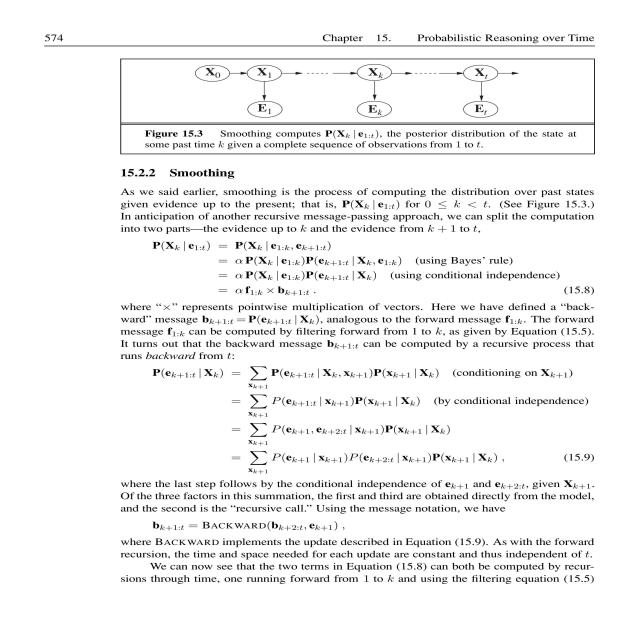diagram: (116, 56, 588, 153)
